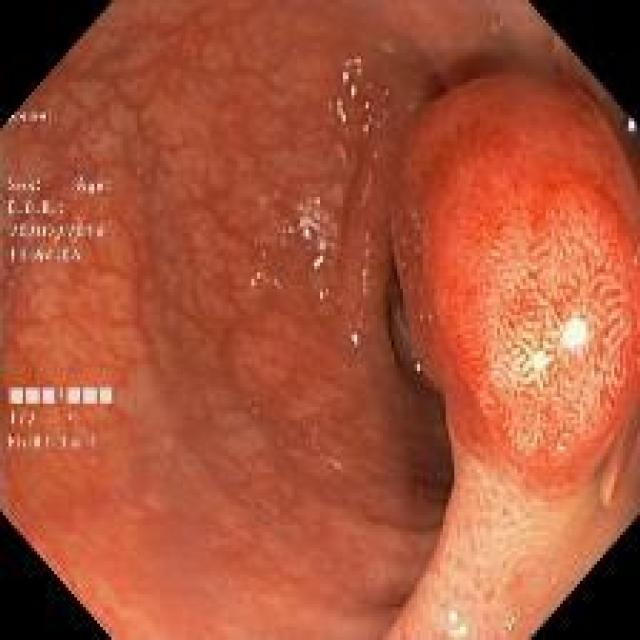Polyps: (395, 78, 640, 500)
